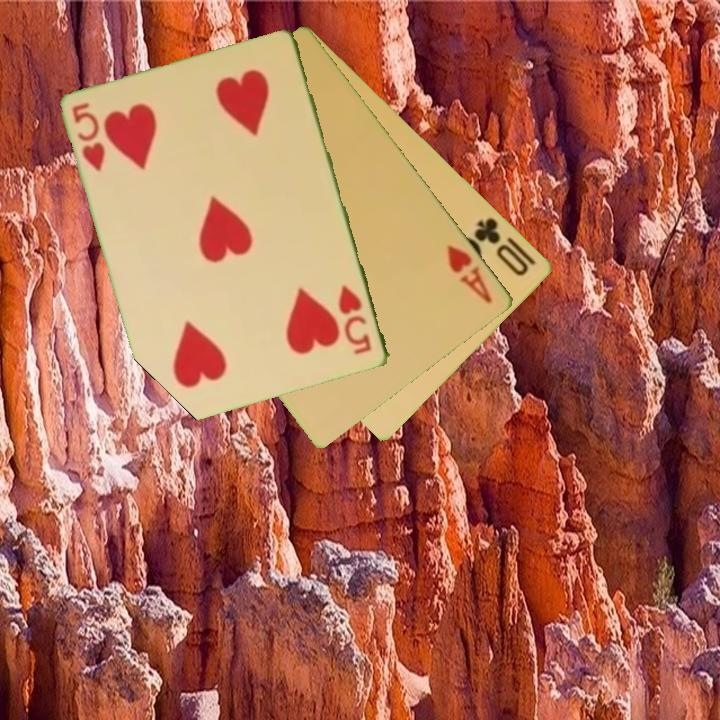10c: (471, 214, 532, 280)
5h: (335, 282, 375, 358), (69, 99, 109, 175)
Ah: (444, 241, 496, 307)
